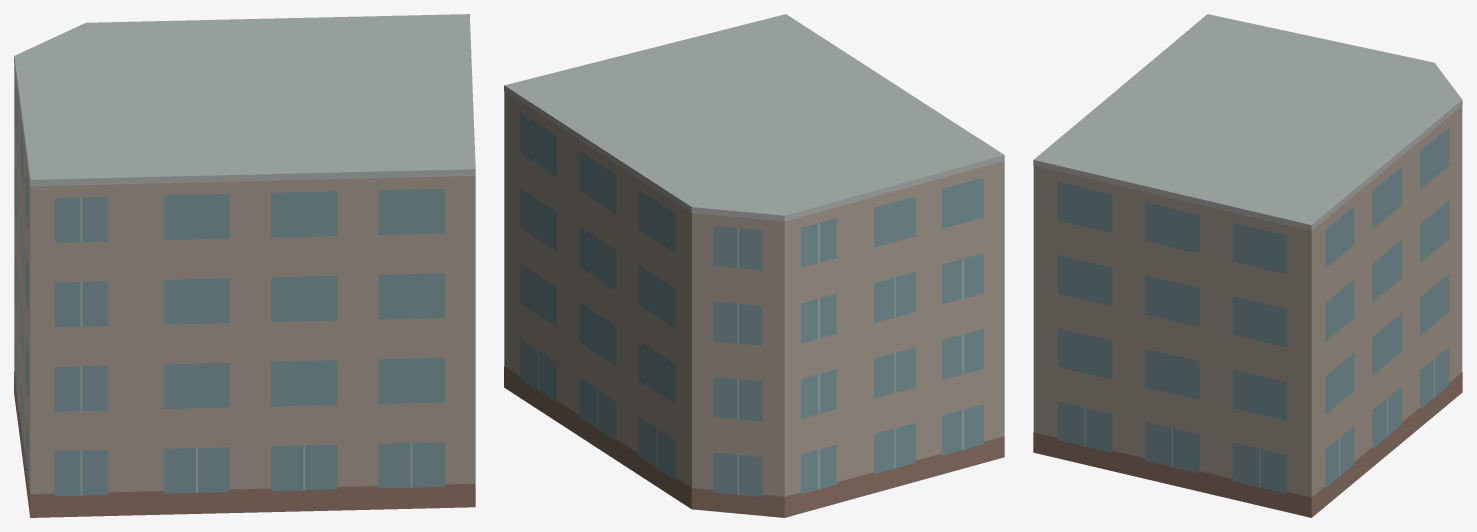
The model's file is survey-upis-32885359.glb.
3 views of the same model, side by side, from view 1: azimuth 30°, elevation 25°; view 2: azimuth 150°, elevation 25°; view 3: azimuth 270°, elevation 25° (orthographic). The views are drawn at different scales.
Parts seen in each view (by area): view 1: survey-upis-32885359.tmp; view 2: survey-upis-32885359.tmp; view 3: survey-upis-32885359.tmp.
Part boxes in pixels (x1,y1,x2,y2): survey-upis-32885359.tmp: (14, 14, 475, 517); survey-upis-32885359.tmp: (504, 14, 1004, 517); survey-upis-32885359.tmp: (1033, 14, 1462, 517).
Bounding box in the file's own units: 19.19 × 12.4 × 16.48.
